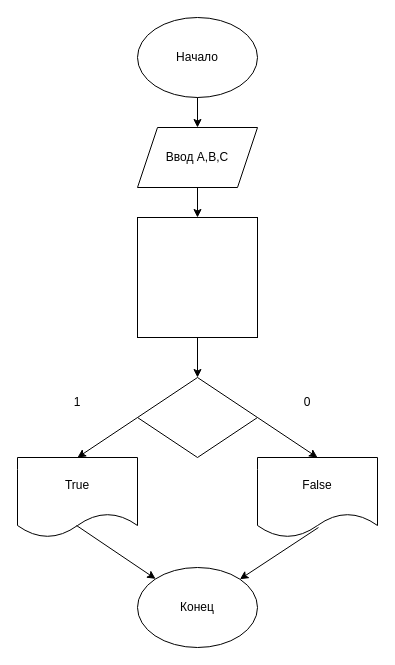
Image size: 395x665. Some labels were removed from this diagram. Here are the shapes that lost their labels. From the top down, the centre of each, then its label:
the point at 197,277: X1=(A<B) X2=(B<C) X3=(A>B) X4=(B>C) X5=X1&&X2 X6=X3&&X4 X7=X5 ||X6
the point at 197,417: X7?
